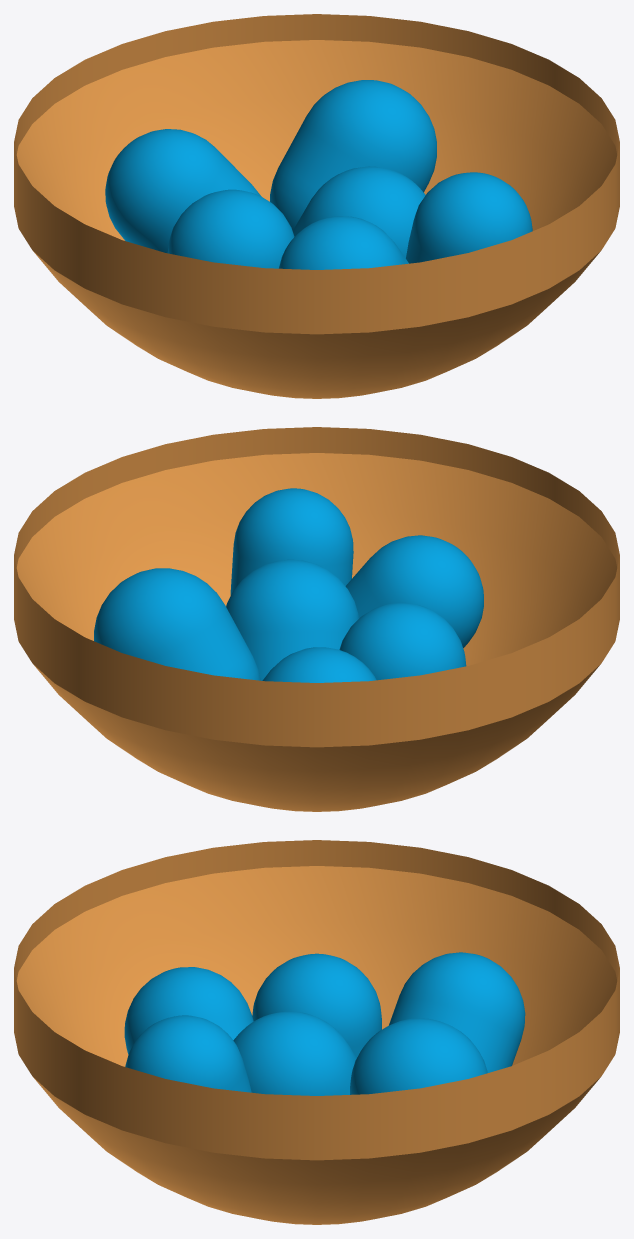
File: Eye_Blue.fbx
The picture shows the model from 3 angles, top to bottom: view 1: azimuth 30°, elevation 25°; view 2: azimuth 150°, elevation 25°; view 3: azimuth 270°, elevation 25°; orthographic projection.
Parts seen in each view (by area): view 1: Citerne_1, Citerne_1_2, Citerne_2, Citerne_6, Citerne_3, Citerne_4, Citerne_5; view 2: Citerne_1, Citerne_1_2, Citerne_4, Citerne_5, Citerne_6, Citerne_3, Citerne_2; view 3: Citerne_1, Citerne_2, Citerne_4, Citerne_1_2, Citerne_3, Citerne_6, Citerne_5.
Part boxes in pixels (left/top/right/bottom): Citerne_1: left=14, top=14, right=619, bottom=398; Citerne_1_2: left=270, top=80, right=436, bottom=230; Citerne_2: left=105, top=129, right=261, bottom=253; Citerne_6: left=406, top=172, right=532, bottom=263; Citerne_3: left=167, top=189, right=294, bottom=268; Citerne_4: left=292, top=166, right=425, bottom=258; Citerne_5: left=279, top=216, right=408, bottom=269; Citerne_1: left=14, top=427, right=619, bottom=811; Citerne_1_2: left=94, top=568, right=260, bottom=680; Citerne_4: left=226, top=559, right=358, bottom=680; Citerne_5: left=345, top=535, right=483, bottom=647; Citerne_6: left=230, top=488, right=353, bottom=595; Citerne_3: left=339, top=602, right=466, bottom=680; Citerne_2: left=262, top=647, right=376, bottom=682; Citerne_1: left=14, top=840, right=619, bottom=1224; Citerne_2: left=389, top=952, right=525, bottom=1072; Citerne_4: left=233, top=1011, right=356, bottom=1095; Citerne_1_2: left=350, top=1018, right=487, bottom=1094; Citerne_3: left=252, top=953, right=381, bottom=1058; Citerne_6: left=125, top=1015, right=251, bottom=1092; Citerne_5: left=124, top=967, right=253, bottom=1054.
Size of the model in its own units: 200 by 83.36 by 200.
